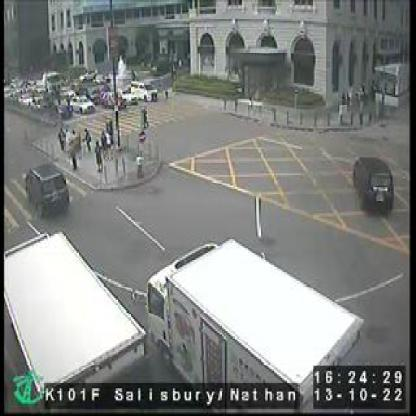Car: (350, 154, 396, 214), (23, 166, 71, 216), (130, 80, 158, 102), (102, 92, 128, 112), (72, 95, 95, 116)
Truck: (146, 238, 374, 404), (4, 231, 147, 396)
